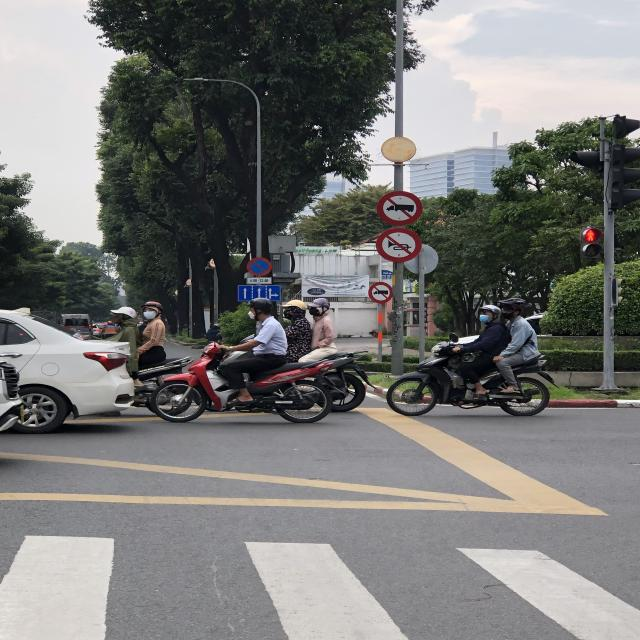Bien bao cam do xe: (244, 255, 276, 277)
Bien bao cam xe so-mi ro-mooc: (372, 187, 426, 227), (367, 278, 394, 306)
